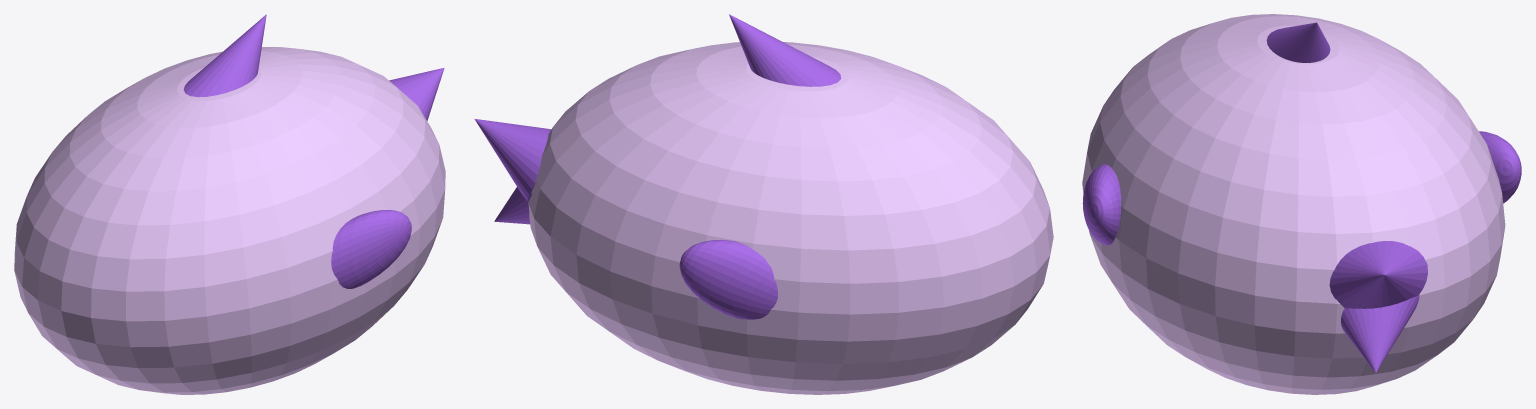
The model's file is fish1.glb.
The picture shows the model from 3 angles, left to right: view 1: azimuth 30°, elevation 25°; view 2: azimuth 150°, elevation 25°; view 3: azimuth 270°, elevation 25°; orthographic projection. The views are drawn at different scales.
Visible parts, largest first — view 1: fish1; view 2: fish1; view 3: fish1.
Part boxes in pixels (bbox=[...]): fish1: bbox=[14, 14, 445, 394]; fish1: bbox=[474, 14, 1053, 394]; fish1: bbox=[1082, 14, 1521, 394].
Size of the model in its own units: 0.1947 by 0.1316 by 0.1435.
